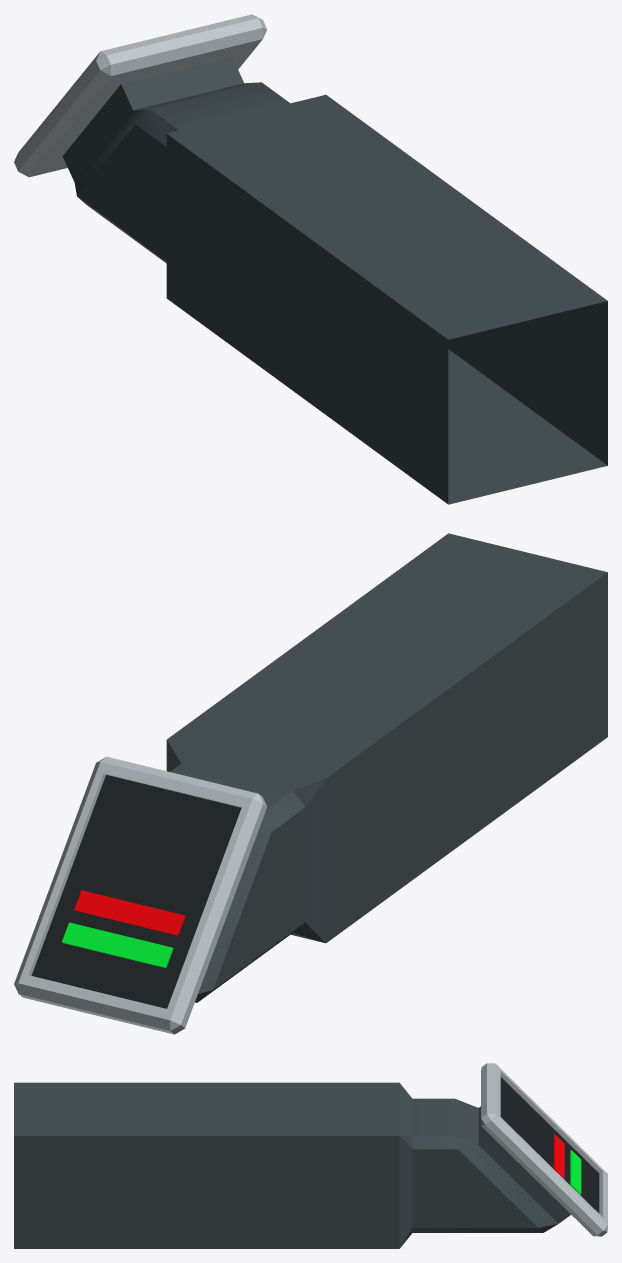
Rendered from Control 01.FBX.
3 renders of one model, top to bottom at view 1: azimuth 30°, elevation 25°; view 2: azimuth 150°, elevation 25°; view 3: azimuth 270°, elevation 25°, orthographic. The views are drawn at different scales.
Visible parts, largest first — view 1: Control 01; view 2: Control 01; view 3: Control 01.
Part boxes in pixels (box(x1,y1,x2,y2)): Control 01: box(14, 14, 607, 504); Control 01: box(14, 533, 607, 1034); Control 01: box(14, 1063, 607, 1248).
Bounding box in the file's own units: 26.94 × 30.14 × 121.
Materials: 1 (1 with a texture image).
